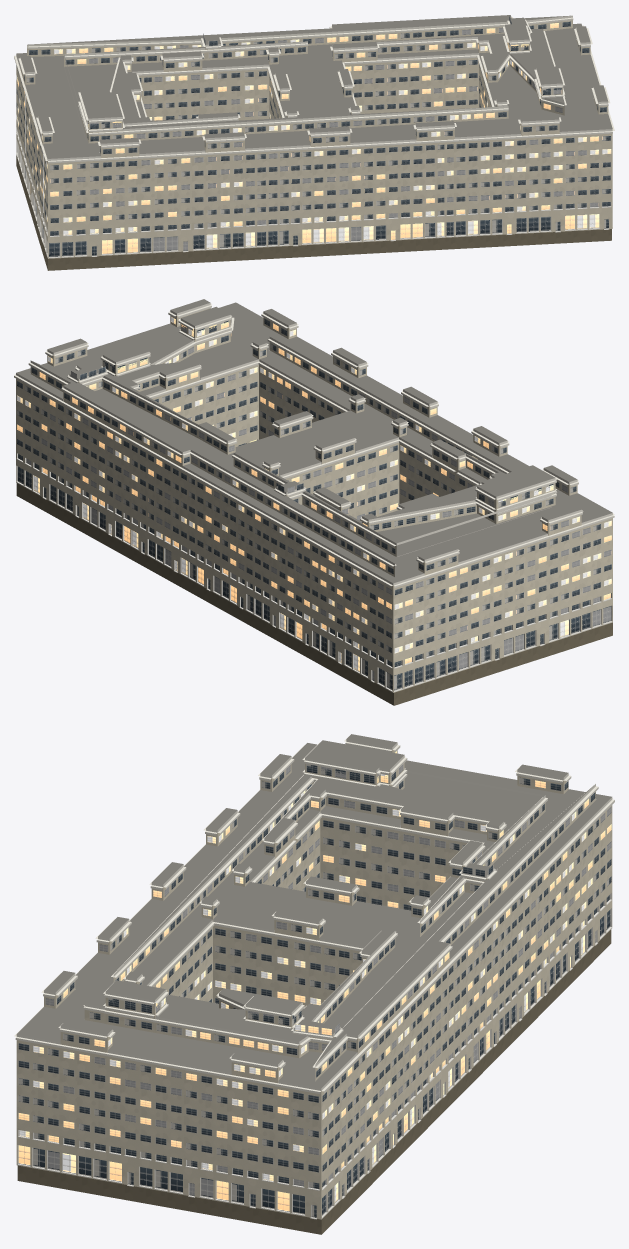
File: z5b_hohl_letzi.glb
3 views of the same model, one above another, from view 1: azimuth 30°, elevation 25°; view 2: azimuth 150°, elevation 25°; view 3: azimuth 270°, elevation 25° (orthographic). The views are drawn at different scales.
Visible parts, largest first — view 1: z5b_hohl_letzi; view 2: z5b_hohl_letzi; view 3: z5b_hohl_letzi.
Part boxes in pixels (<box>): z5b_hohl_letzi: <box>14,15,614,270</box>; z5b_hohl_letzi: <box>14,299,614,705</box>; z5b_hohl_letzi: <box>14,734,614,1234</box>.
Size of the model in its own units: 142 by 34.14 by 104.
Materials: 3 (3 with a texture image).
